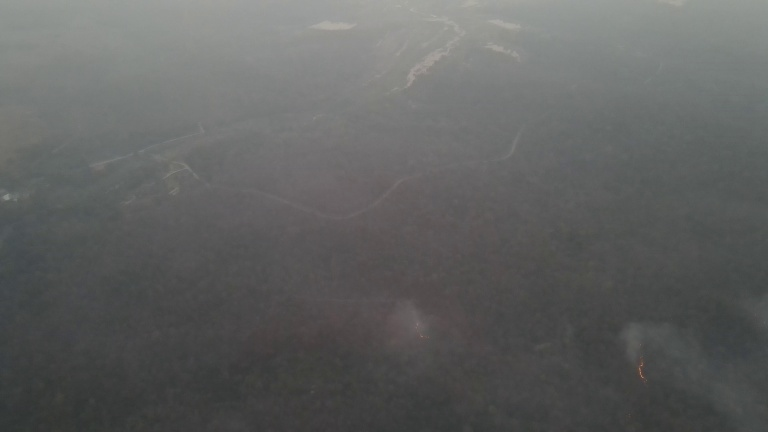fire: (635, 341, 649, 383), (413, 317, 432, 343)
smoke: (605, 302, 762, 432), (380, 288, 460, 375)
